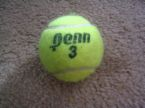tennis ball: (33, 12, 109, 86)
